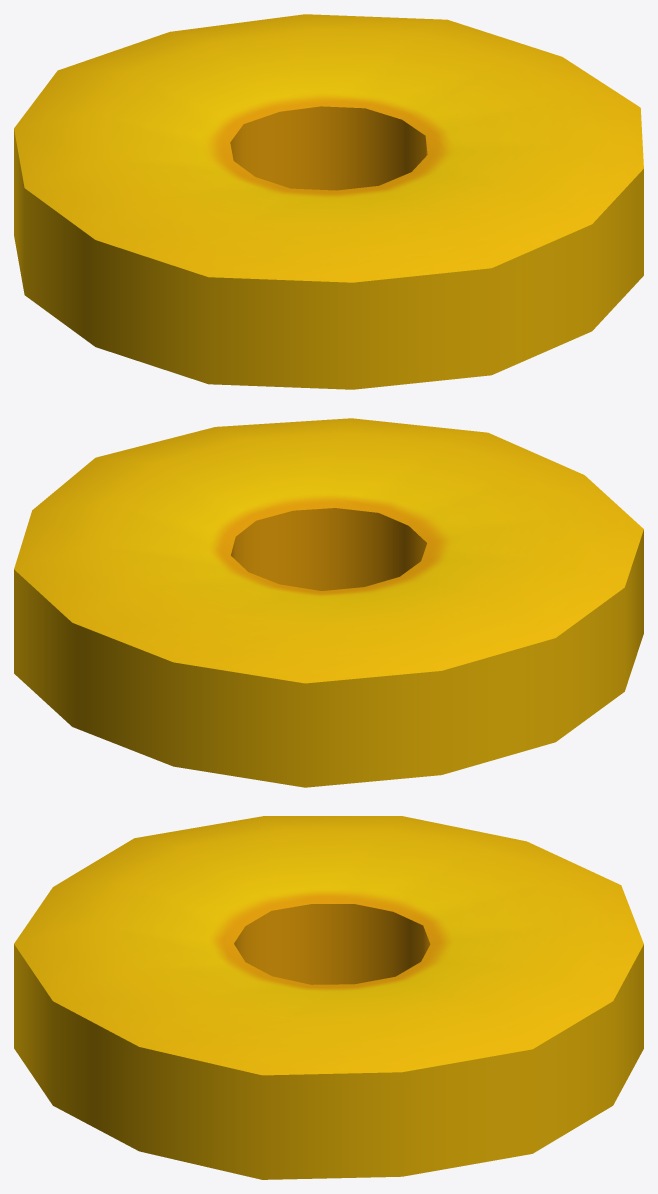
The model's file is Pineapple_Slice_02.glb.
3 views of the same model, one above another, from view 1: azimuth 30°, elevation 25°; view 2: azimuth 150°, elevation 25°; view 3: azimuth 270°, elevation 25° (orthographic). The views are drawn at different scales.
Parts seen in each view (by area): view 1: Pineapple_Slice_02; view 2: Pineapple_Slice_02; view 3: Pineapple_Slice_02.
Boxes of the visible parts, x1,y1,x2,y2 form: Pineapple_Slice_02: [14, 14, 643, 389]; Pineapple_Slice_02: [14, 418, 643, 787]; Pineapple_Slice_02: [14, 816, 643, 1179].
Size of the model in its own units: 0.2661 by 0.0672 by 0.2731.
1 material, 1 textured.
